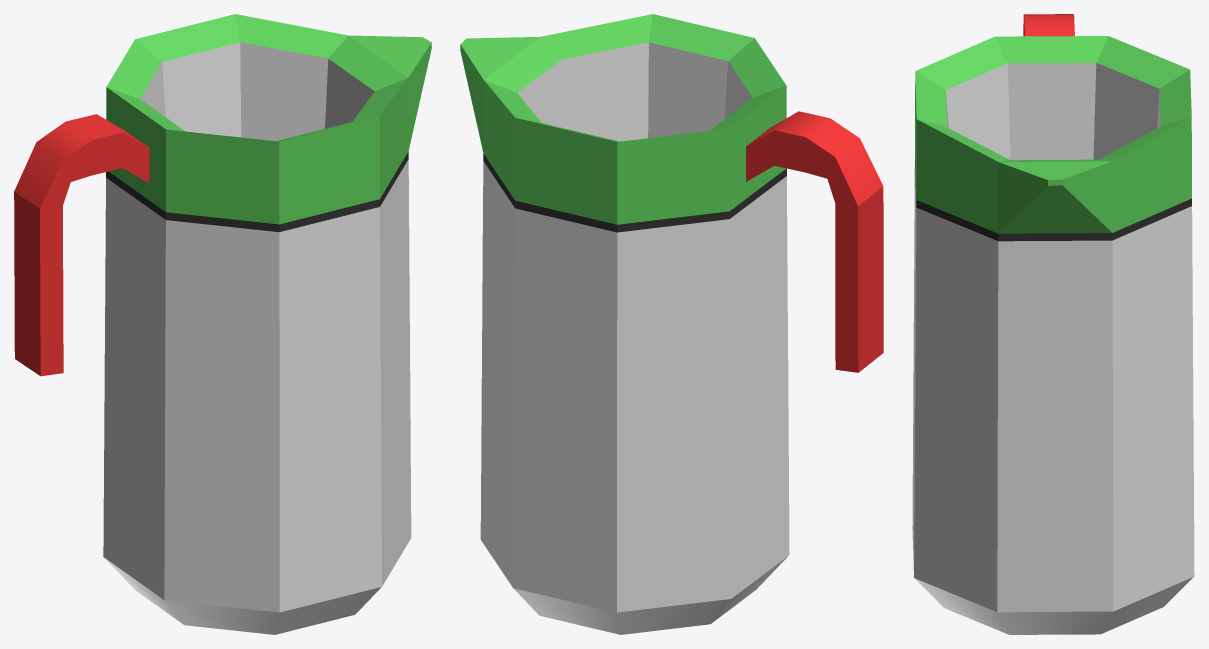
Rendered from Water_Jug.fbx.
3 renders of one model, left to right at view 1: azimuth 30°, elevation 25°; view 2: azimuth 150°, elevation 25°; view 3: azimuth 270°, elevation 25°, orthographic. The views are drawn at different scales.
Parts seen in each view (by area): view 1: pCylinder10; view 2: pCylinder10; view 3: pCylinder10.
Boxes of the visible parts, x1,y1,x2,y2 form: pCylinder10: (14,14,431,634); pCylinder10: (460,14,883,634); pCylinder10: (912,14,1194,634).
Size of the model in its own units: 21.02 by 25.11 by 13.
